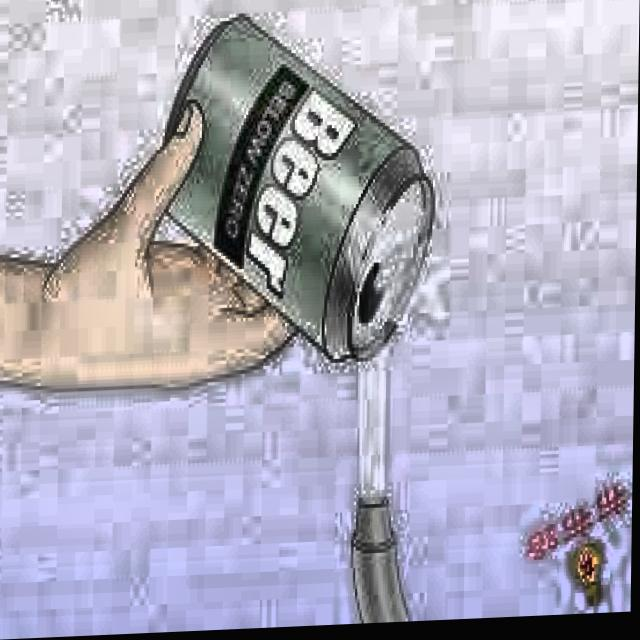can: (156, 0, 442, 375)
